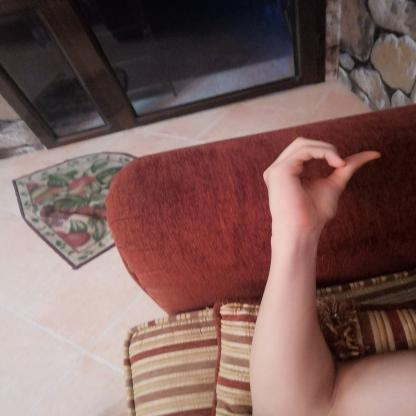WAW: (252, 127, 397, 244)
